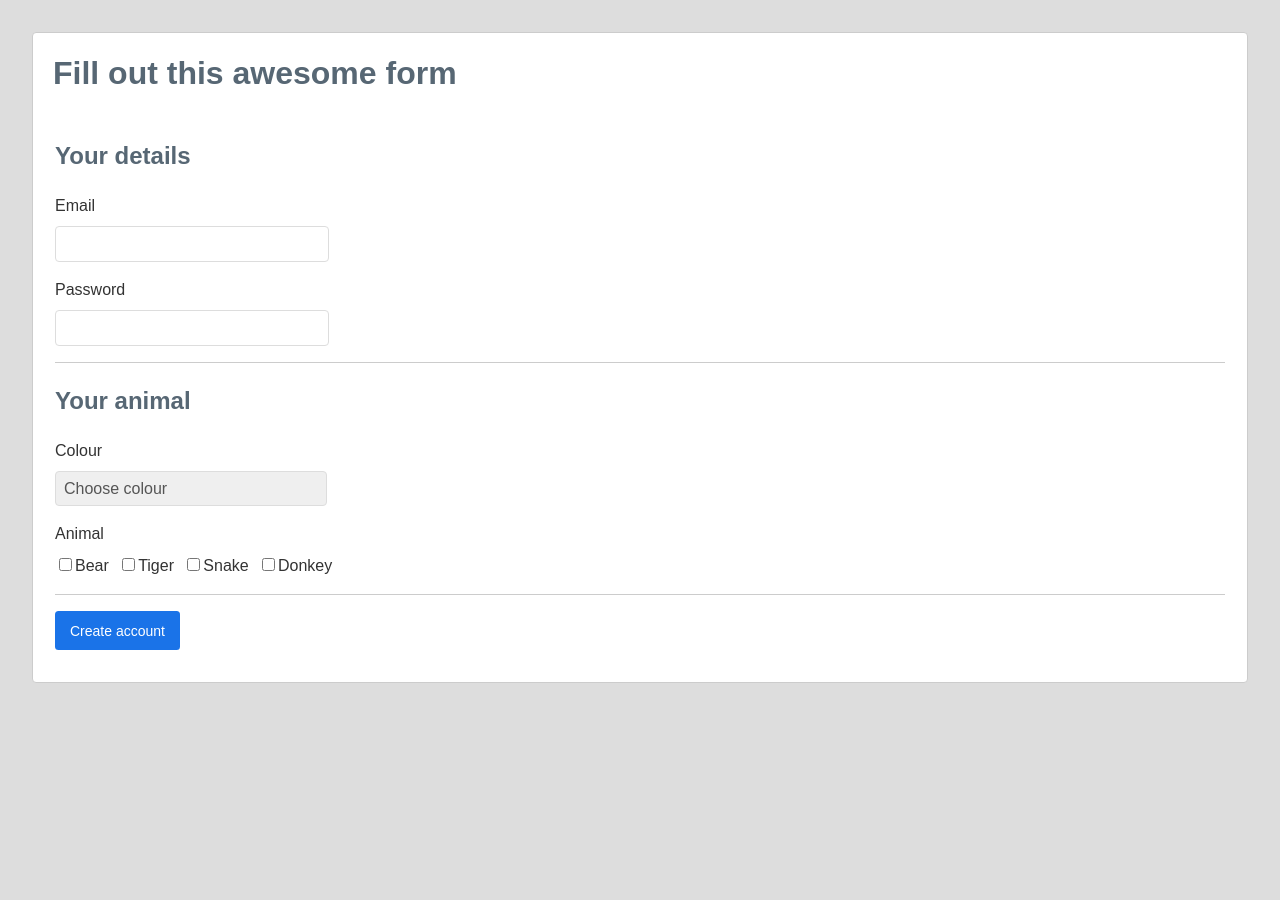
Scenario: Form validation and error handling › should show an error message when a colour has not been selected
Click the button with test id "submit-button": (118, 631) [55,611,180,650]
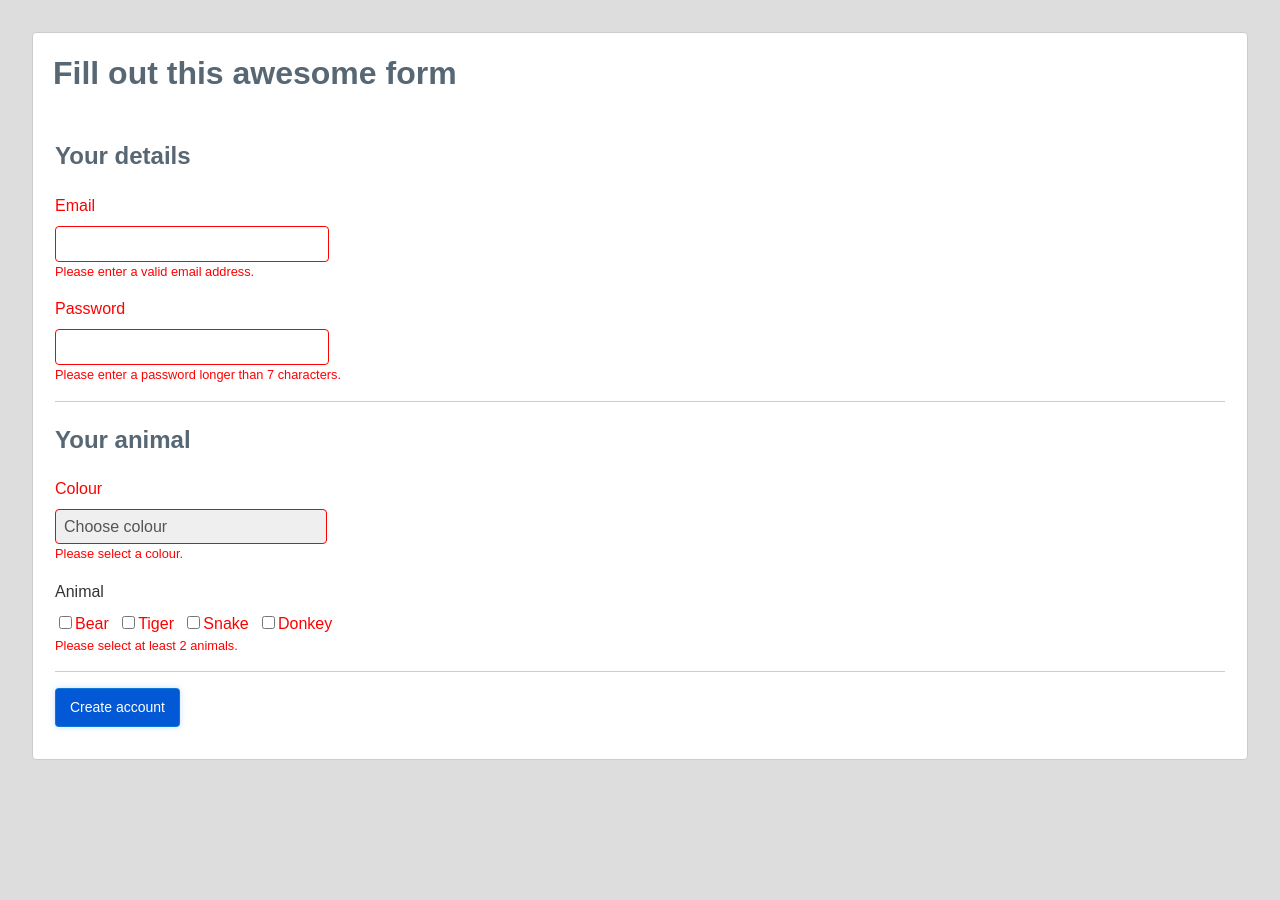
Result: the text "Please select a colour." is shown at [55,546,183,561]
